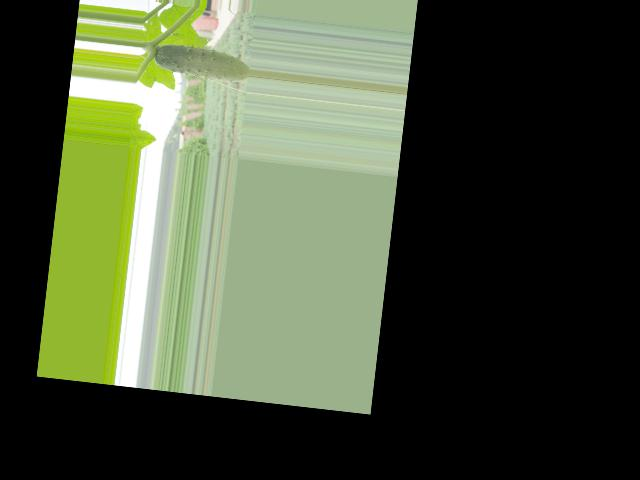cucumber: (153, 42, 251, 84)
